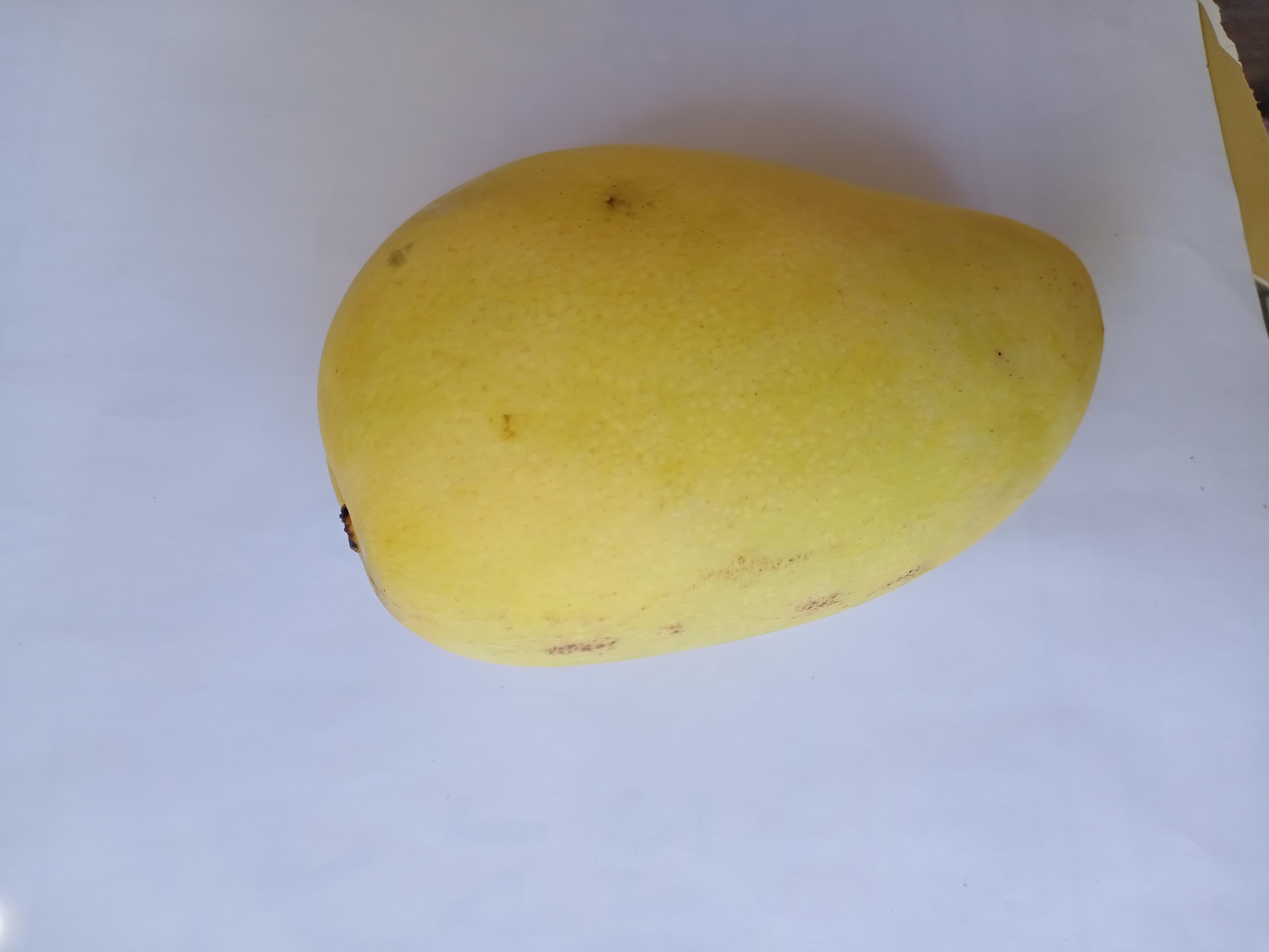Mango Ripe: (253, 96, 1137, 738)
